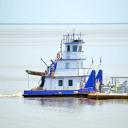tugboat: (23, 29, 106, 103)
